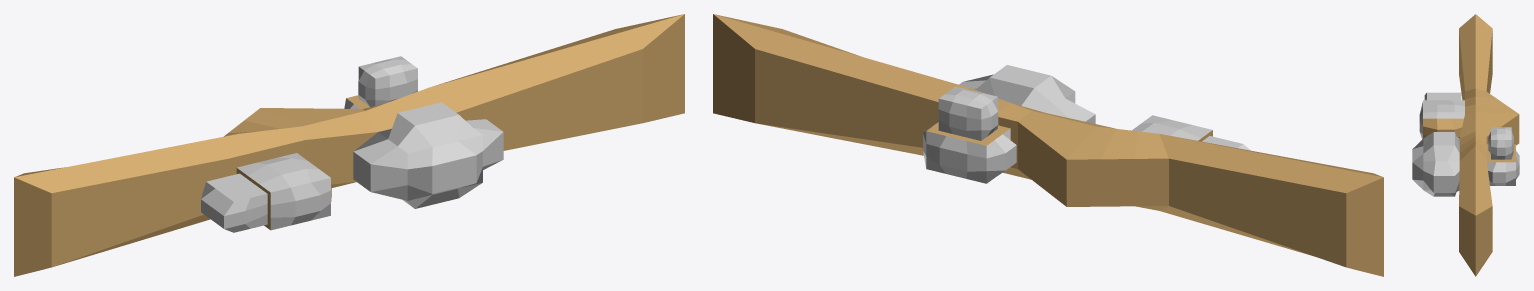
Rendered from obstacle-long.fbx.
3 renders of one model, left to right at view 1: azimuth 30°, elevation 25°; view 2: azimuth 150°, elevation 25°; view 3: azimuth 270°, elevation 25°, orthographic. The views are drawn at different scales.
Visible parts, largest first — view 1: Cube; view 2: Cube; view 3: Cube.
Boxes of the visible parts, <box> form: Cube: <box>14,14,684,276</box>; Cube: <box>713,14,1383,276</box>; Cube: <box>1412,14,1519,276</box>.
Bounding box in the file's own units: 2835 × 409 × 637.
